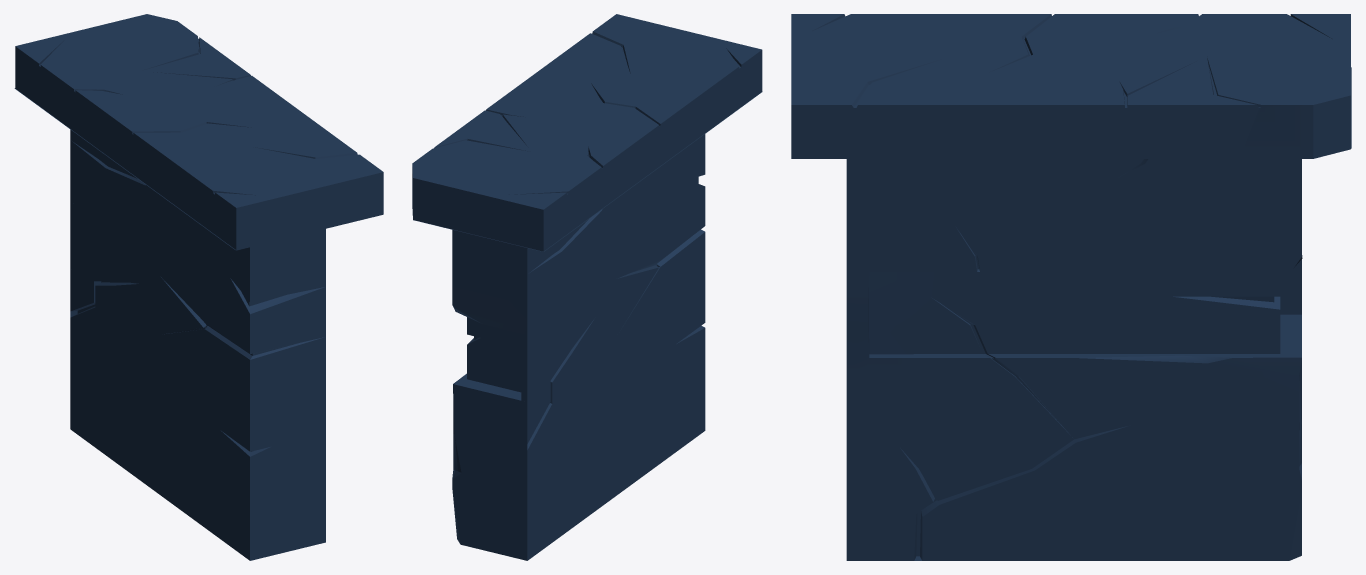
The model's file is 1_floor3.FBX.
The picture shows the model from 3 angles, left to right: view 1: azimuth 30°, elevation 25°; view 2: azimuth 150°, elevation 25°; view 3: azimuth 270°, elevation 25°; orthographic projection. The views are drawn at different scales.
Parts seen in each view (by area): view 1: 1 map_ bridge; view 2: 1 map_ bridge; view 3: 1 map_ bridge.
Part boxes in pixels (x1,y1,x2,y2): 1 map_ bridge: (14, 14, 383, 560); 1 map_ bridge: (412, 14, 762, 560); 1 map_ bridge: (791, 14, 1351, 560).
Bounding box in the file's own units: 7.42 × 18.1 × 19.24.
